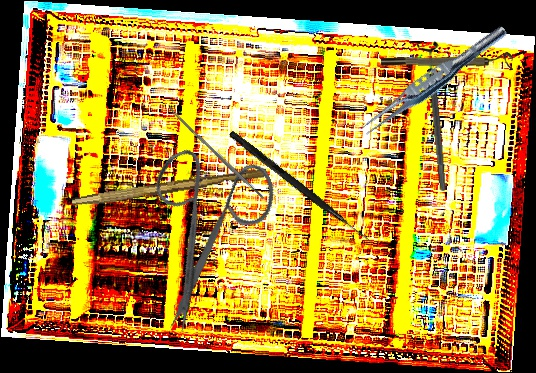Fixation Ring: (415, 40, 455, 193), (380, 49, 514, 71)
Hook Surgical: (227, 130, 375, 245)
Iris Scissors: (108, 123, 313, 337)
Scalpel Handle: (71, 164, 268, 212), (167, 106, 265, 201)
Tissue Forceps: (356, 18, 511, 143)
